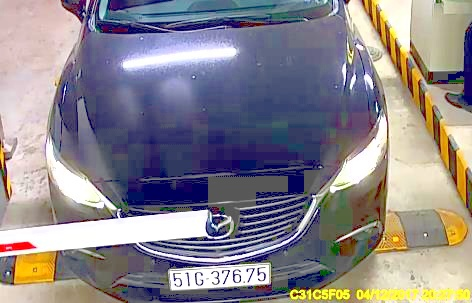plate: (166, 262, 274, 288)
